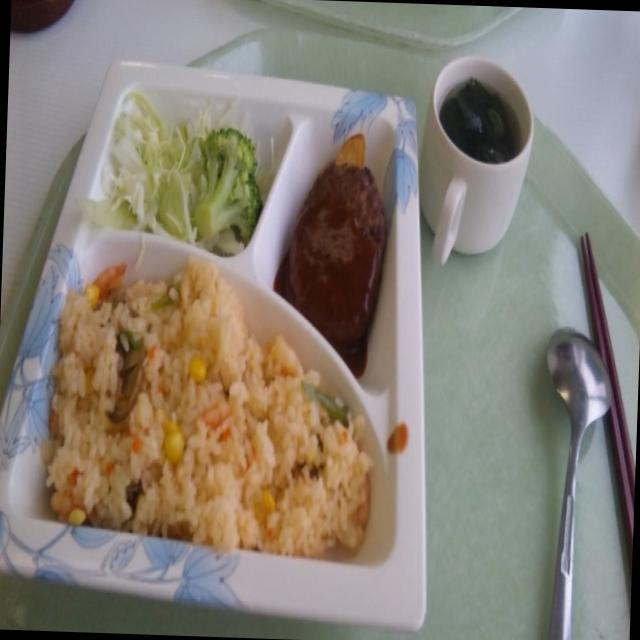Green Salad: (98, 97, 262, 256)
Rice: (50, 288, 331, 558)
